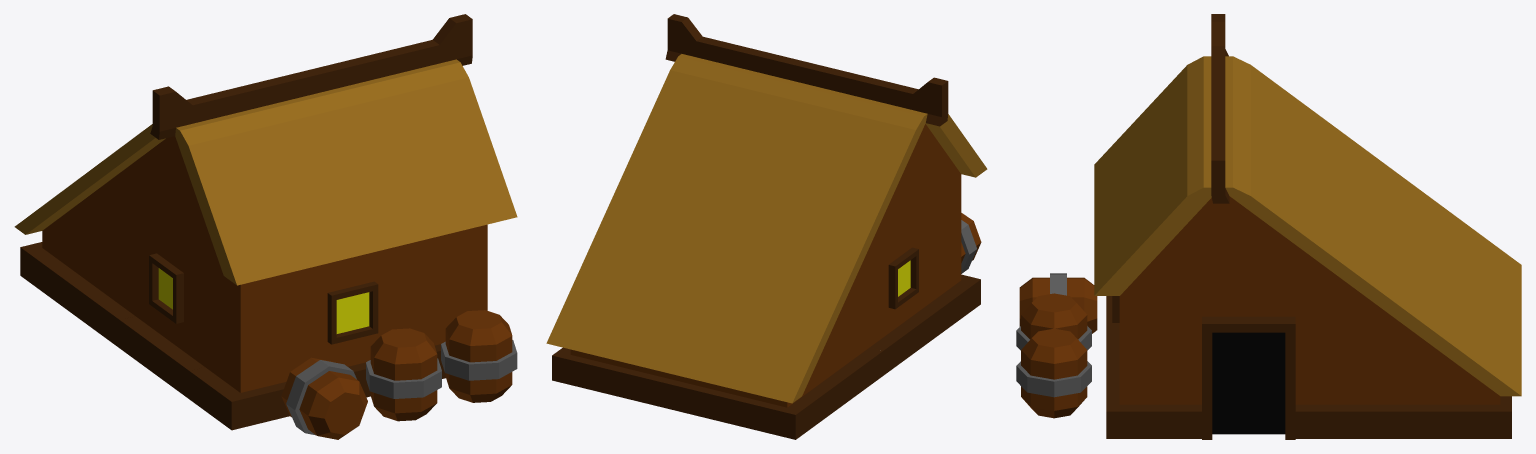
Rendered from house_2.obj.
3 renders of one model, left to right at view 1: azimuth 30°, elevation 25°; view 2: azimuth 150°, elevation 25°; view 3: azimuth 270°, elevation 25°, orthographic. The views are drawn at different scales.
Visible parts, largest first — view 1: House_2_Cube.004; view 2: House_2_Cube.004; view 3: House_2_Cube.004.
Boxes of the visible parts, x1=… form: House_2_Cube.004: x1=14, y1=14, x2=517, y2=439; House_2_Cube.004: x1=546, y1=14, x2=987, y2=439; House_2_Cube.004: x1=1016, y1=14, x2=1521, y2=439.
Bounding box in the file's own units: 13.38 × 12.31 × 19.49.
Materials: 1 (1 with a texture image).
